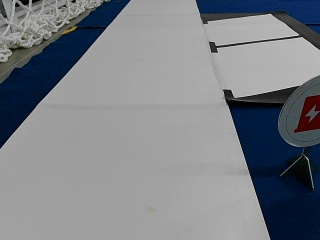battery: (279, 74, 319, 147)
